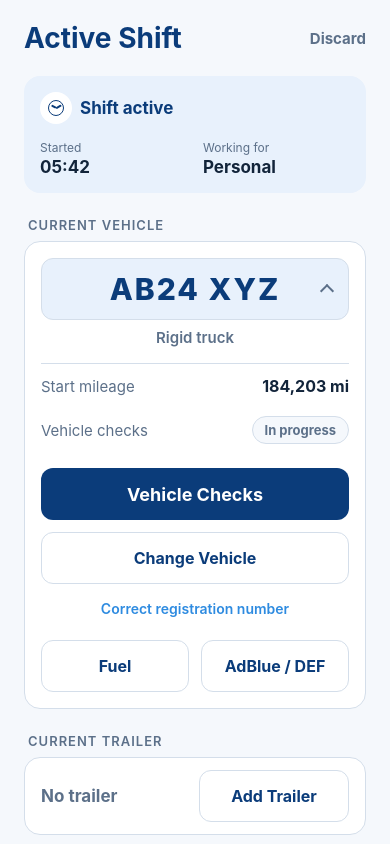
Scenario: FOLDED with a check still in progress: the plate, 'Checks not completed', and the subtle error ground
Click the button with test id "current-vehicle-toggle".
click(195, 289)  # box left=41, top=258, right=349, bottom=320
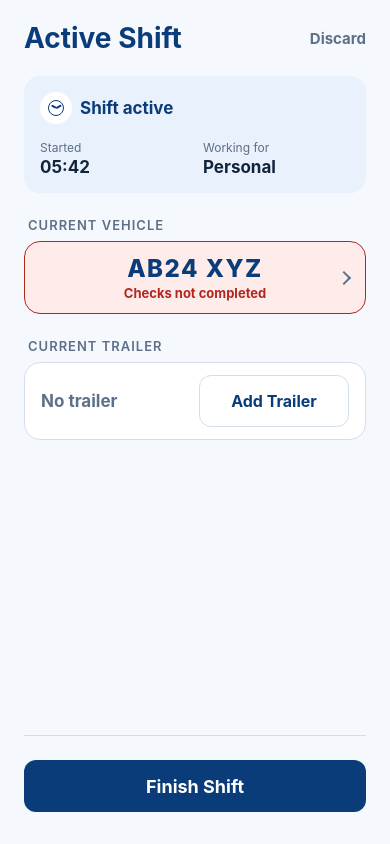
Expected: the text with test id "vehicle-plate-value" reads "AB24 XYZ", left=127, top=254, right=263, bottom=283
Expected: the text with test id "collapsed-checks-state" reads "Checks not completed", left=124, top=285, right=266, bottom=301
